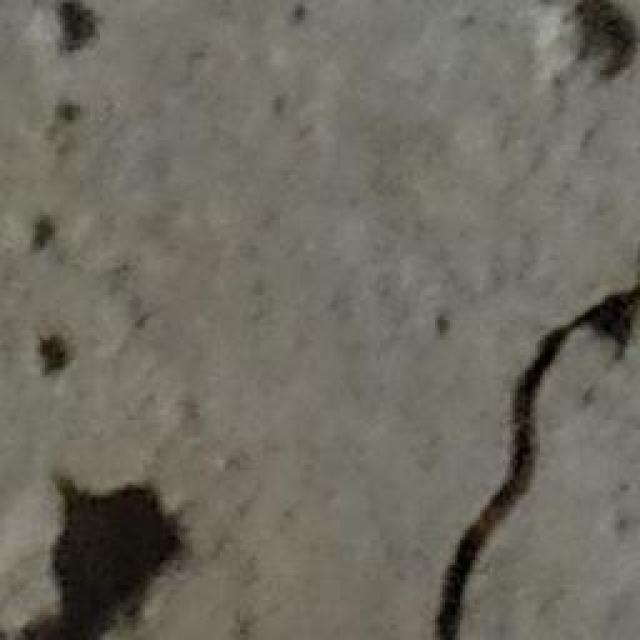Annular: (11, 0, 231, 640), (529, 5, 640, 101)
Diagonal: (395, 268, 640, 640)
